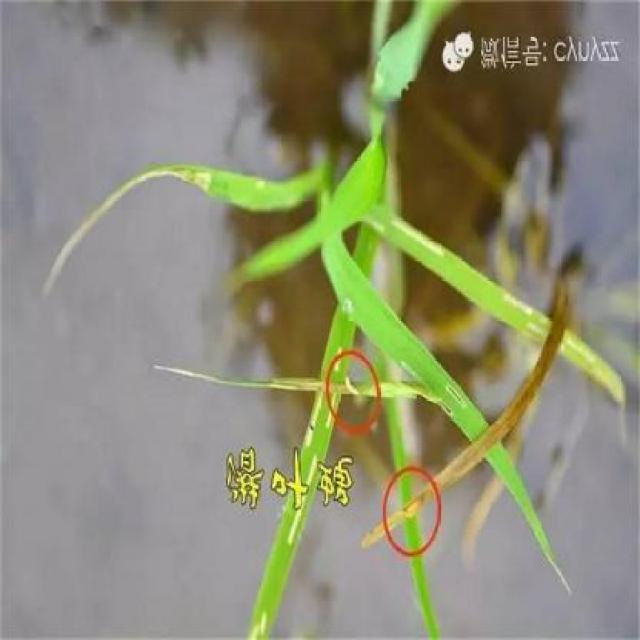whorl-maggot: (342, 369, 364, 408)
